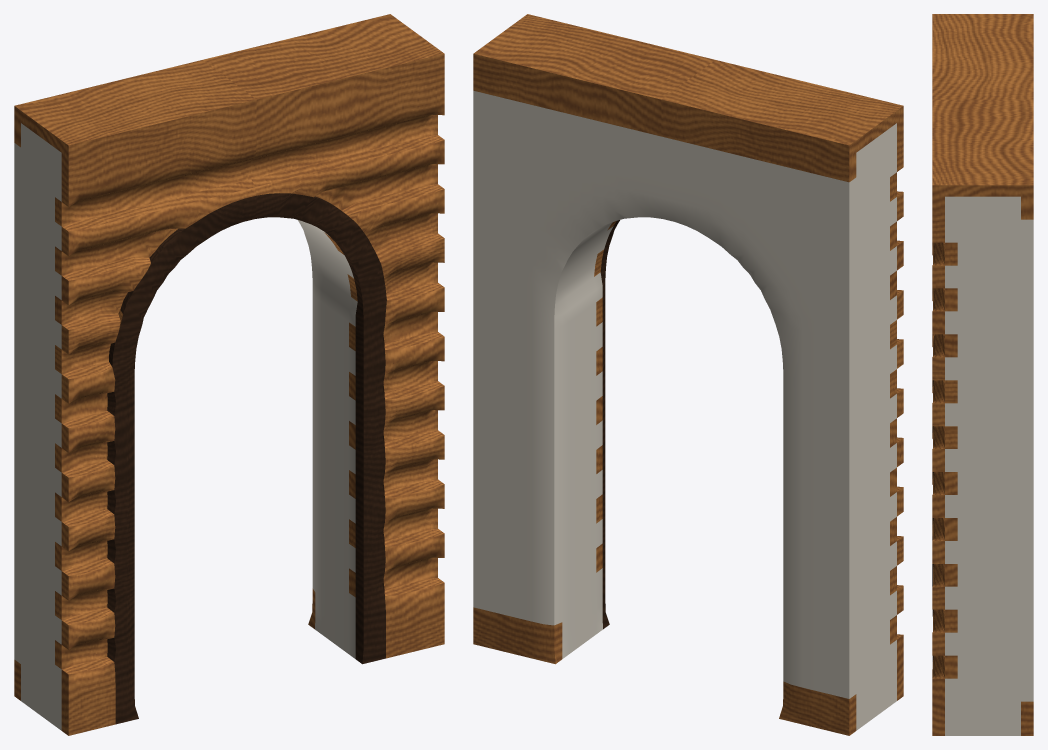
File: wall_out_plank_doorway.glb
3 views of the same model, side by side, from view 1: azimuth 30°, elevation 25°; view 2: azimuth 150°, elevation 25°; view 3: azimuth 270°, elevation 25° (orthographic). The views are drawn at different scales.
Visible parts, largest first — view 1: town_wall_out_plank_doorway; view 2: town_wall_out_plank_doorway; view 3: town_wall_out_plank_doorway.
Part boxes in pixels (x1,y1,x2,y2): town_wall_out_plank_doorway: (14,14,444,735); town_wall_out_plank_doorway: (473,14,903,735); town_wall_out_plank_doorway: (932,14,1033,735).
Bounding box in the file's own units: 1 × 1.5 × 0.25.
Materials: 2 (1 with a texture image).
